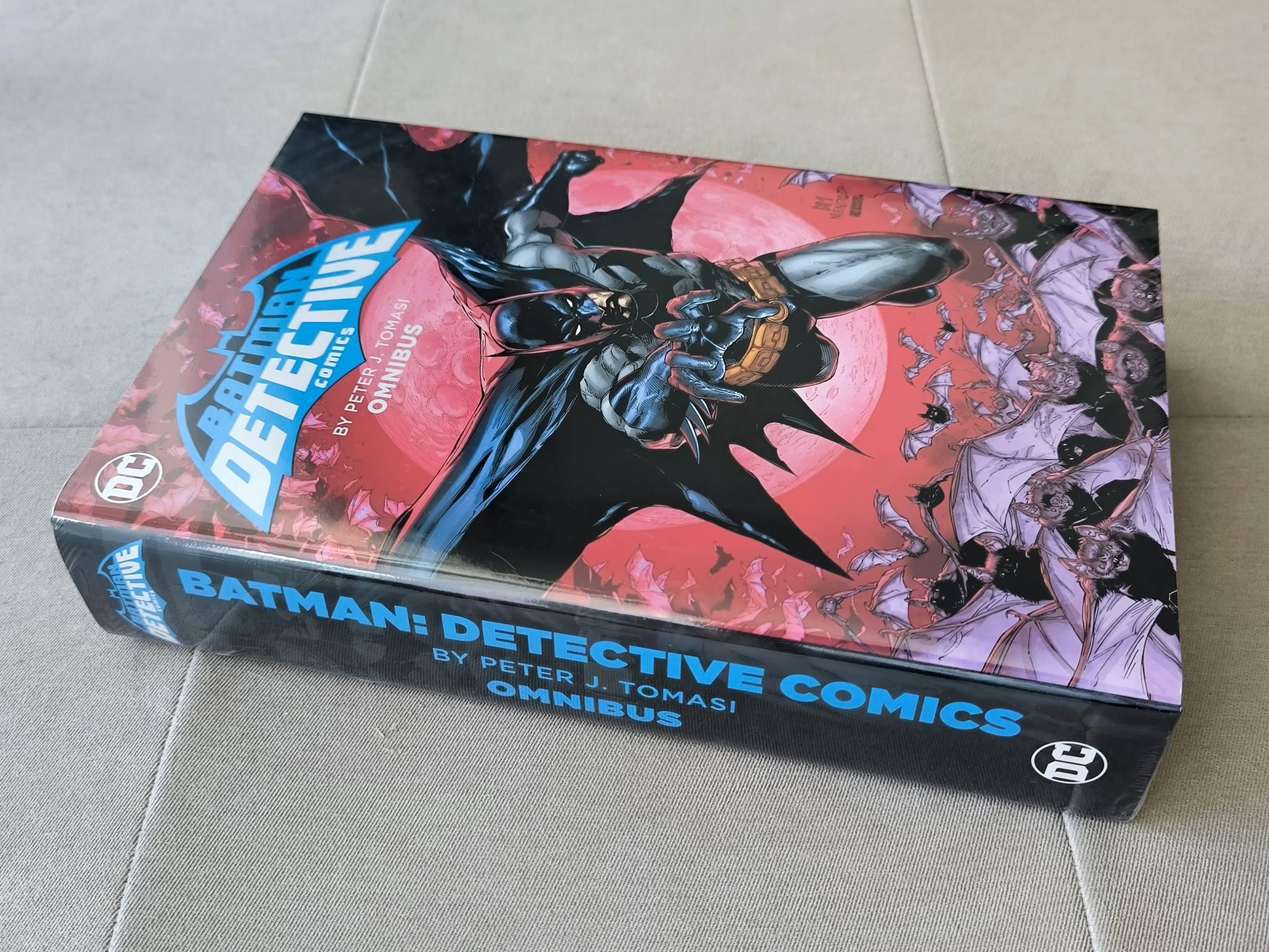comic: (51, 59, 1250, 705)
